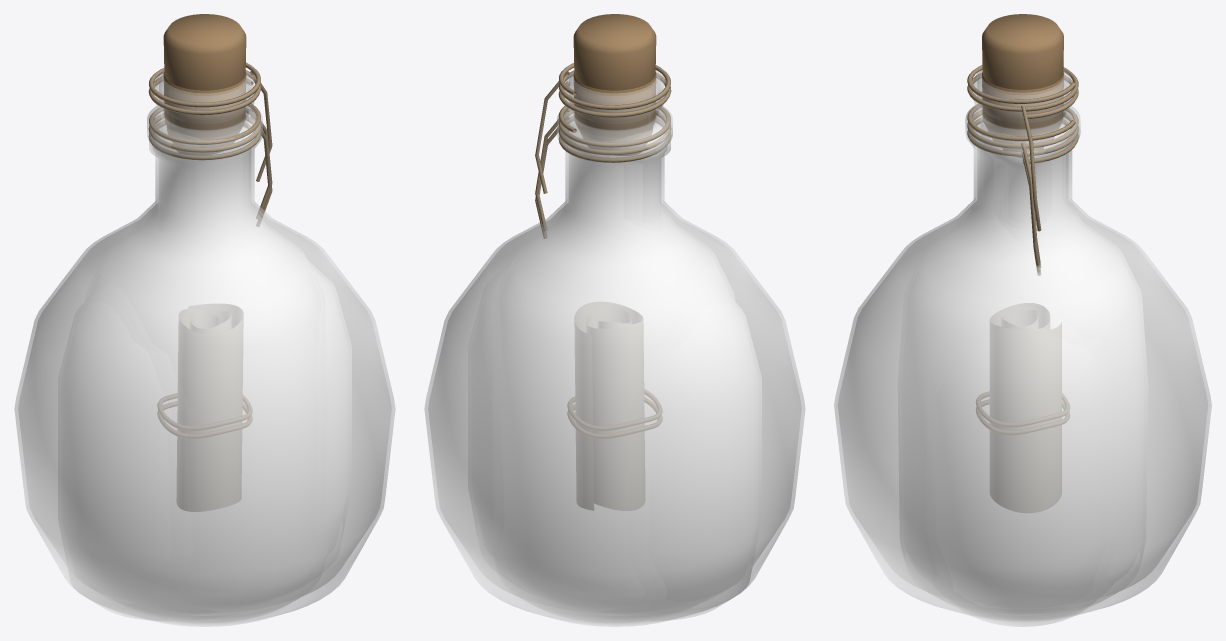
File: sea-bottles.glb
3 views of the same model, side by side, from view 1: azimuth 30°, elevation 25°; view 2: azimuth 150°, elevation 25°; view 3: azimuth 270°, elevation 25° (orthographic).
Visible parts, largest first — view 1: Glass_1, Glass_0, Glass_2, RolledPaper_2, Cork_0, Cork_1, NeckCord_0, NeckCord_2, NeckCord_1, PaperTie_21, PaperTie_20; view 2: Glass_1, Glass_0, Glass_2, RolledPaper_2, Cork_0, Cork_1, NeckCord_0, NeckCord_2, NeckCord_1, PaperTie_21, PaperTie_20, LooseHemp_0; view 3: Glass_1, Glass_2, Glass_0, RolledPaper_2, Cork_0, Cork_1, NeckCord_0, NeckCord_2, NeckCord_1, PaperTie_21, PaperTie_20, LooseHemp_0.
Boxes of the visible parts, bbox=[...] form: Glass_1: bbox=[14, 106, 395, 626]; Glass_0: bbox=[85, 70, 321, 622]; Glass_2: bbox=[58, 112, 351, 620]; RolledPaper_2: bbox=[176, 304, 243, 511]; Cork_0: bbox=[163, 14, 246, 90]; Cork_1: bbox=[163, 72, 246, 147]; NeckCord_0: bbox=[148, 62, 261, 115]; NeckCord_2: bbox=[148, 108, 261, 160]; NeckCord_1: bbox=[148, 103, 261, 152]; PaperTie_21: bbox=[157, 393, 252, 430]; PaperTie_20: bbox=[157, 401, 252, 438]; Glass_1: bbox=[424, 106, 805, 626]; Glass_0: bbox=[498, 70, 734, 622]; Glass_2: bbox=[468, 112, 761, 620]; RolledPaper_2: bbox=[574, 302, 644, 510]; Cork_0: bbox=[573, 14, 656, 90]; Cork_1: bbox=[573, 72, 656, 149]; NeckCord_0: bbox=[558, 63, 671, 117]; NeckCord_2: bbox=[558, 110, 671, 162]; NeckCord_1: bbox=[558, 102, 671, 155]; PaperTie_21: bbox=[567, 389, 662, 430]; PaperTie_20: bbox=[567, 397, 662, 438]; LooseHemp_0: bbox=[535, 71, 569, 193]; Glass_1: bbox=[834, 104, 1211, 621]; Glass_2: bbox=[936, 137, 1109, 626]; Glass_0: bbox=[898, 70, 1147, 617]; RolledPaper_2: bbox=[990, 303, 1061, 512]; Cork_0: bbox=[982, 14, 1063, 89]; Cork_1: bbox=[982, 71, 1063, 147]; NeckCord_0: bbox=[967, 65, 1078, 119]; NeckCord_2: bbox=[967, 110, 1078, 163]; NeckCord_1: bbox=[967, 104, 1078, 155]; PaperTie_21: bbox=[976, 392, 1069, 427]; PaperTie_20: bbox=[976, 399, 1069, 434]; LooseHemp_0: bbox=[1021, 105, 1041, 231].
Size of the model in its own units: 0.92 by 1.47 by 0.92.
